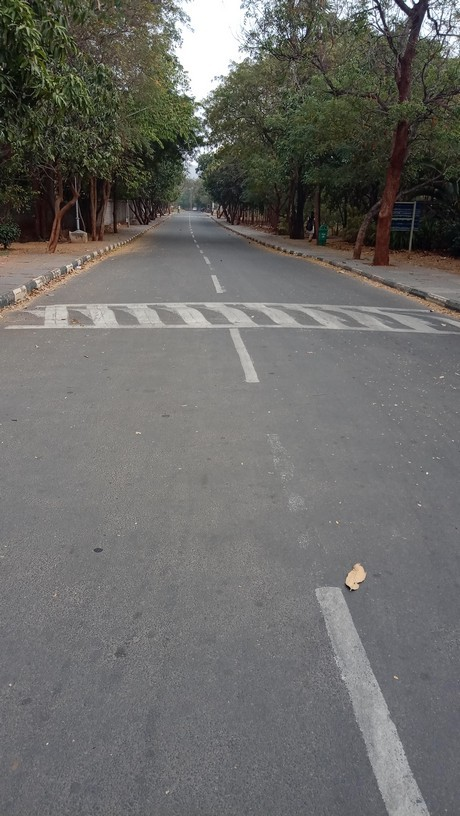bump: (1, 304, 459, 327)
